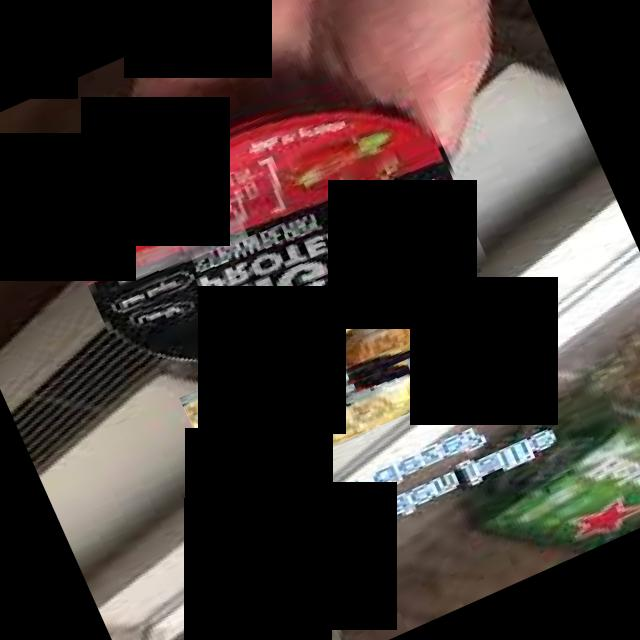yogurt: (51, 50, 488, 412), (235, 326, 426, 474), (319, 248, 494, 384), (179, 348, 320, 462)
